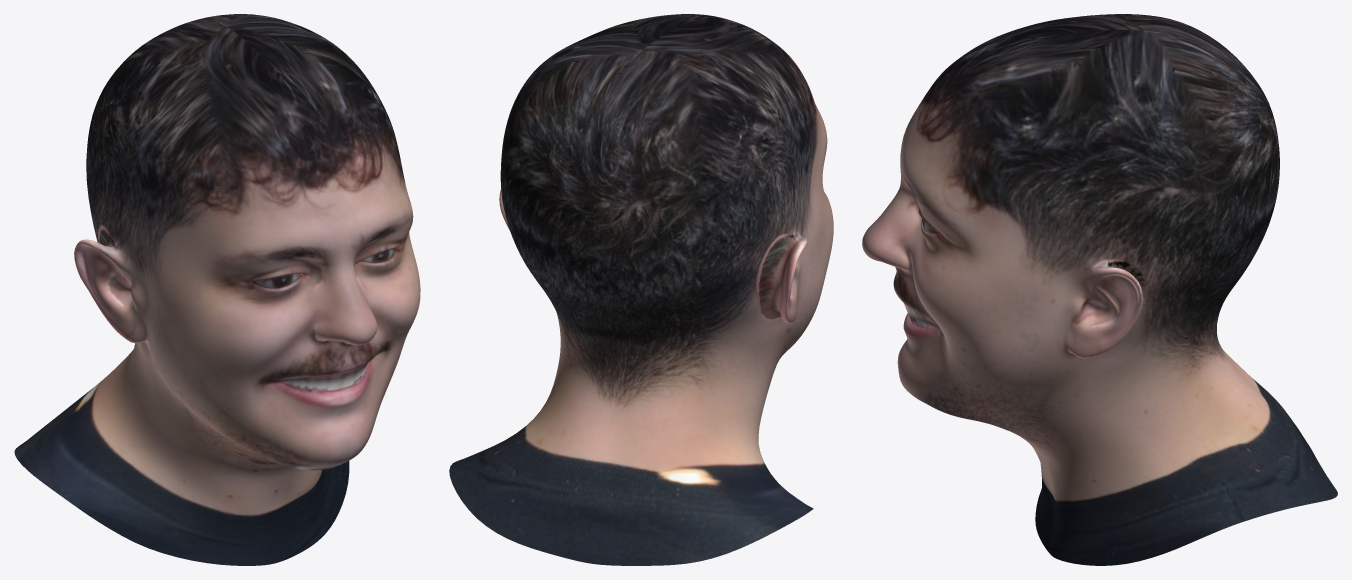
Rendered from victor-head.glb.
The picture shows the model from 3 angles, left to right: view 1: azimuth 30°, elevation 25°; view 2: azimuth 150°, elevation 25°; view 3: azimuth 270°, elevation 25°; orthographic projection. The views are drawn at different scales.
Visible parts, largest first — view 1: FBHead; view 2: FBHead; view 3: FBHead.
Boxes of the visible parts, box(x1,y1,x2,y2) form: FBHead: box(14, 14, 420, 565); FBHead: box(449, 14, 833, 565); FBHead: box(862, 14, 1337, 565).
Size of the model in its own units: 1.63 by 2.4 by 2.03.
Materials: 1 (1 with a texture image).
